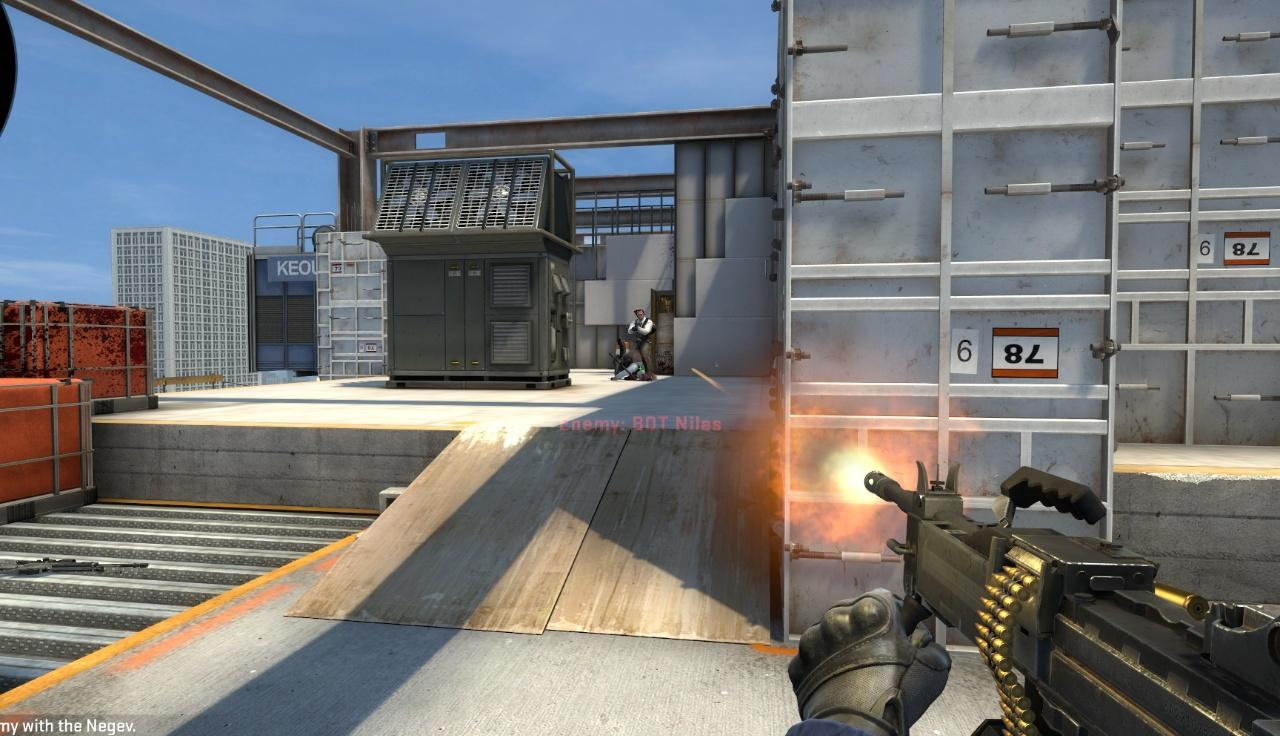rifle: (845, 459, 1280, 736)
tt: (627, 308, 658, 378)
tthead: (636, 309, 645, 320)
